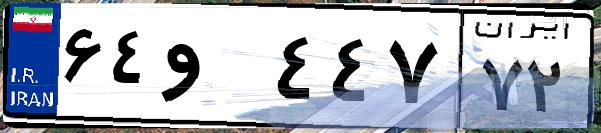2: (525, 38, 570, 115)
4: (270, 28, 330, 110), (330, 28, 385, 110), (110, 28, 158, 98)
6: (57, 26, 110, 100)
7: (385, 28, 445, 110), (475, 38, 525, 113)
و: (158, 20, 270, 120)
